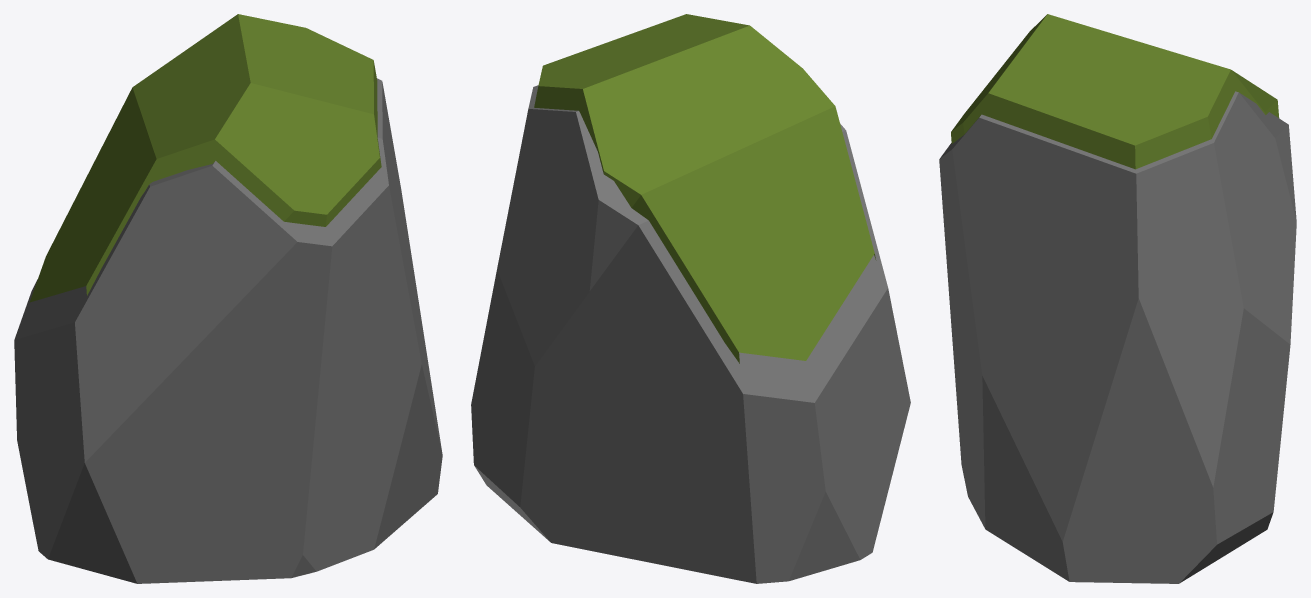
Rendered from Stone_5_moss_vc.fbx.
3 renders of one model, left to right at view 1: azimuth 30°, elevation 25°; view 2: azimuth 150°, elevation 25°; view 3: azimuth 270°, elevation 25°, orthographic. The views are drawn at different scales.
Parts seen in each view (by area): view 1: Stone_5_moss_vc; view 2: Stone_5_moss_vc; view 3: Stone_5_moss_vc.
Part boxes in pixels (<box>): Stone_5_moss_vc: <box>14,14,442,583</box>; Stone_5_moss_vc: <box>471,14,910,583</box>; Stone_5_moss_vc: <box>939,14,1296,583</box>.
Bounding box in the file's own units: 2.18 × 2.66 × 1.83.
